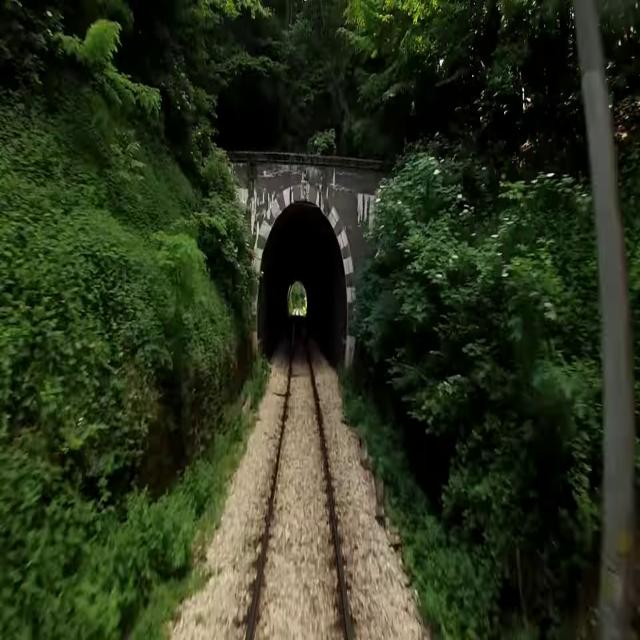rail-track: (250, 311, 346, 639)
